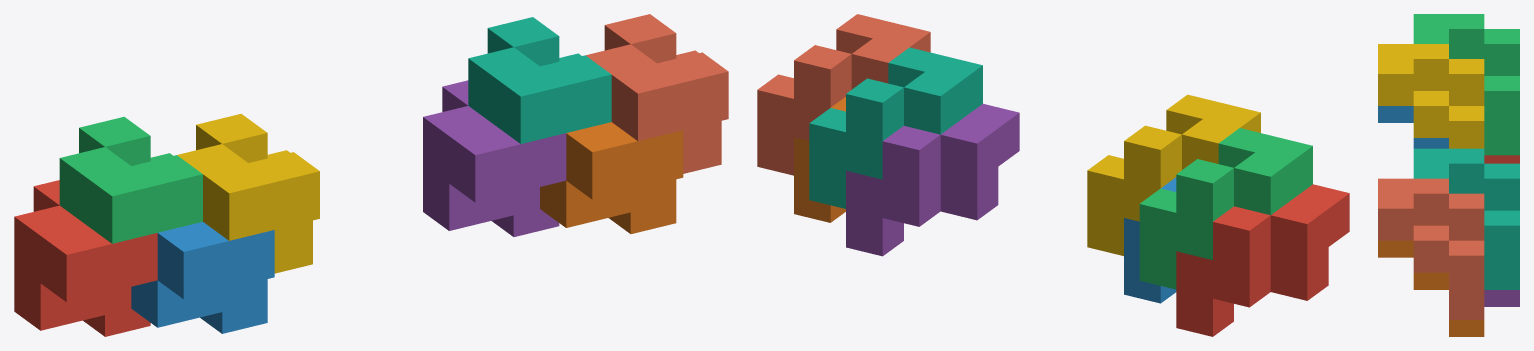
Rendered from tiling.obj.
3 views of the same model, side by side, from view 1: azimuth 30°, elevation 25°; view 2: azimuth 150°, elevation 25°; view 3: azimuth 270°, elevation 25° (orthographic). The views are drawn at different scales.
Visible parts, largest first — view 1: copy_1_domain_1, copy_1_domain_5, copy_1_domain_8, copy_1_domain_4, copy_1_domain_7, copy_1_domain_3, copy_1_domain_6, copy_1_domain_2; view 2: copy_1_domain_5, copy_1_domain_1, copy_1_domain_3, copy_1_domain_7, copy_1_domain_4, copy_1_domain_8, copy_1_domain_2, copy_1_domain_6; view 3: copy_1_domain_8, copy_1_domain_4, copy_1_domain_7, copy_1_domain_3, copy_1_domain_6, copy_1_domain_2, copy_1_domain_5, copy_1_domain_1.
Boxes of the visible parts, x1,y1,x2,y2 form: copy_1_domain_1: [14, 180, 157, 336]; copy_1_domain_5: [423, 80, 566, 236]; copy_1_domain_8: [586, 14, 728, 173]; copy_1_domain_4: [177, 113, 319, 273]; copy_1_domain_7: [468, 17, 611, 143]; copy_1_domain_3: [59, 116, 202, 243]; copy_1_domain_6: [540, 122, 683, 233]; copy_1_domain_2: [131, 222, 274, 333]; copy_1_domain_5: [846, 103, 1019, 256]; copy_1_domain_1: [1176, 184, 1349, 336]; copy_1_domain_3: [1139, 128, 1312, 289]; copy_1_domain_7: [809, 47, 982, 208]; copy_1_domain_4: [1087, 94, 1260, 255]; copy_1_domain_8: [757, 14, 930, 175]; copy_1_domain_2: [1124, 177, 1176, 303]; copy_1_domain_6: [794, 97, 845, 222]; copy_1_domain_8: [1378, 178, 1484, 319]; copy_1_domain_4: [1378, 44, 1484, 148]; copy_1_domain_7: [1413, 148, 1519, 289]; copy_1_domain_3: [1413, 14, 1519, 155]; copy_1_domain_6: [1378, 240, 1484, 336]; copy_1_domain_2: [1378, 106, 1448, 148]; copy_1_domain_5: [1484, 290, 1519, 306]; copy_1_domain_1: [1484, 155, 1519, 163].
Bounding box in the file's own units: 15 × 4 × 4.
